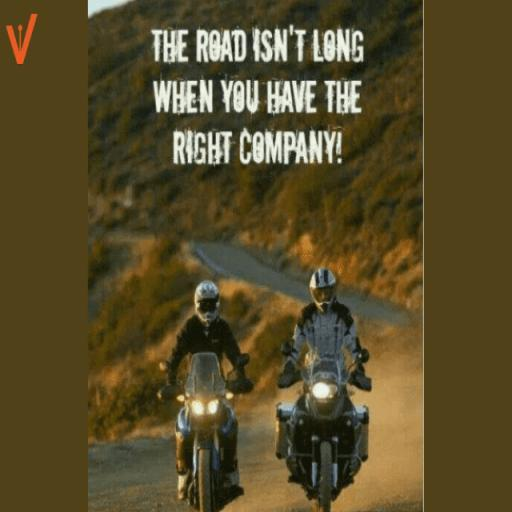helmet: (276, 262, 374, 488), (158, 268, 252, 502)
